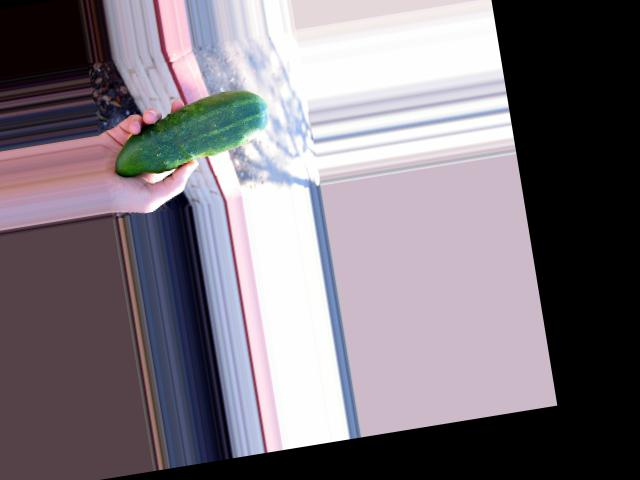cucumber: (106, 84, 274, 178)
